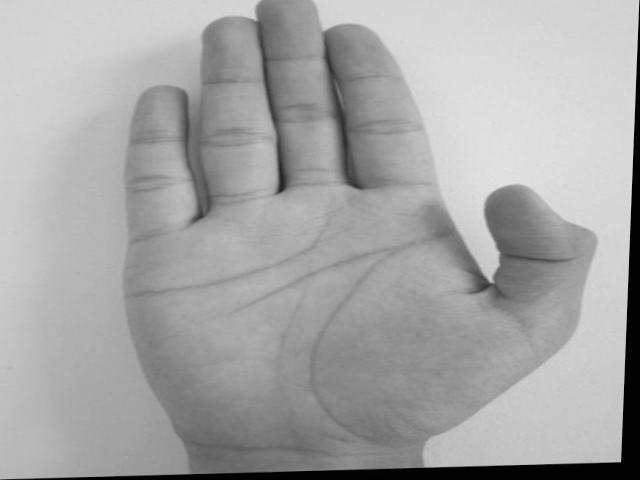not-gloved: (119, 1, 597, 425)
